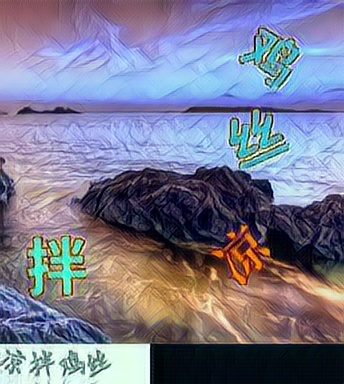B0E8: (27, 233, 89, 297)
BCA6: (238, 26, 300, 90)
C1B9: (210, 223, 272, 287)
CBBF: (227, 108, 289, 172)
